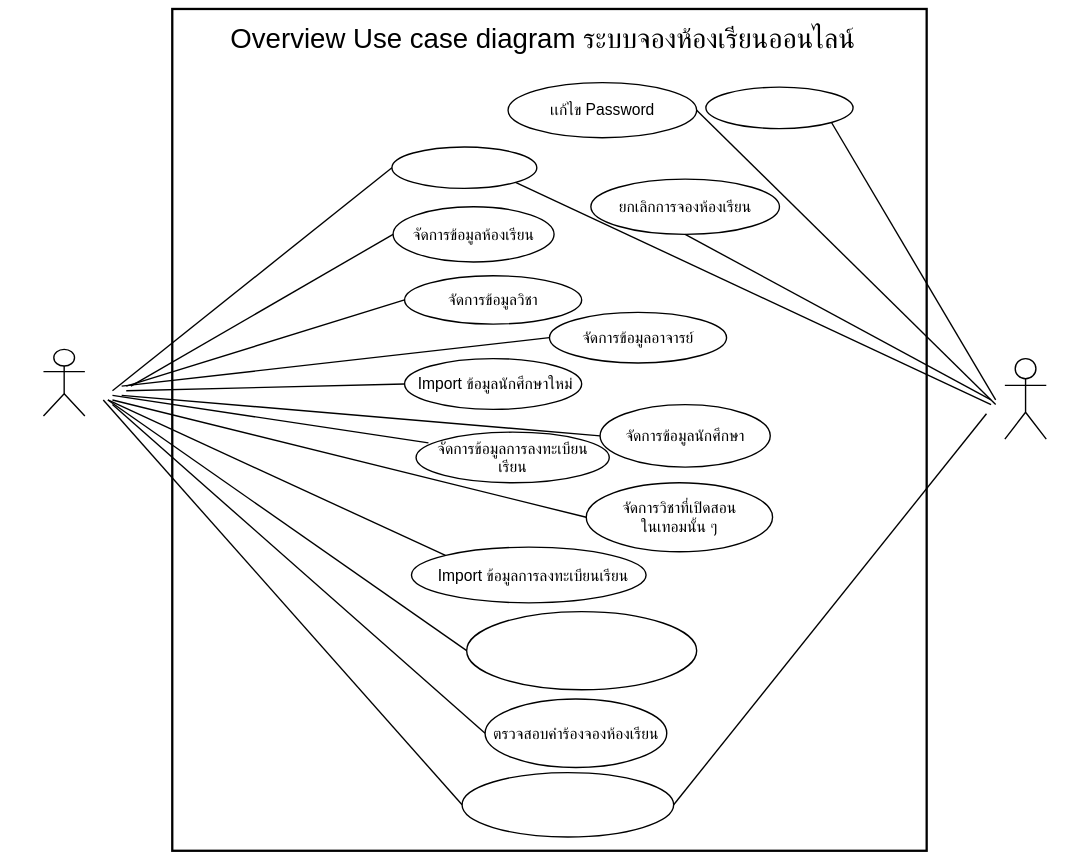
Some shapes in this 1076 by 860 pixel diagram are drawn without their labels. Each missing label, with the centre of its shape:
"จองห้องเรียน" belongs at point (779, 107).
"จัดการวันเริ่มต้น และวันสิ้นสุดภาคการศึกษา" belongs at point (581, 650).
"ผู้ดูแลระบบ" belongs at point (64, 382).
"ผู้ใช้งาน" belongs at point (1025, 399).
"เข้าสู่ระบบ" belongs at point (464, 167).
"แสดงปฏิทินการใช้ห้องเรียน" belongs at point (567, 804).
